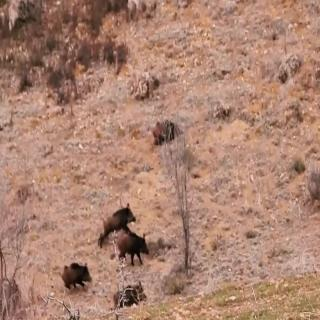Pig: (119, 221, 159, 278), (94, 199, 139, 241), (118, 280, 154, 320), (62, 251, 90, 300)
